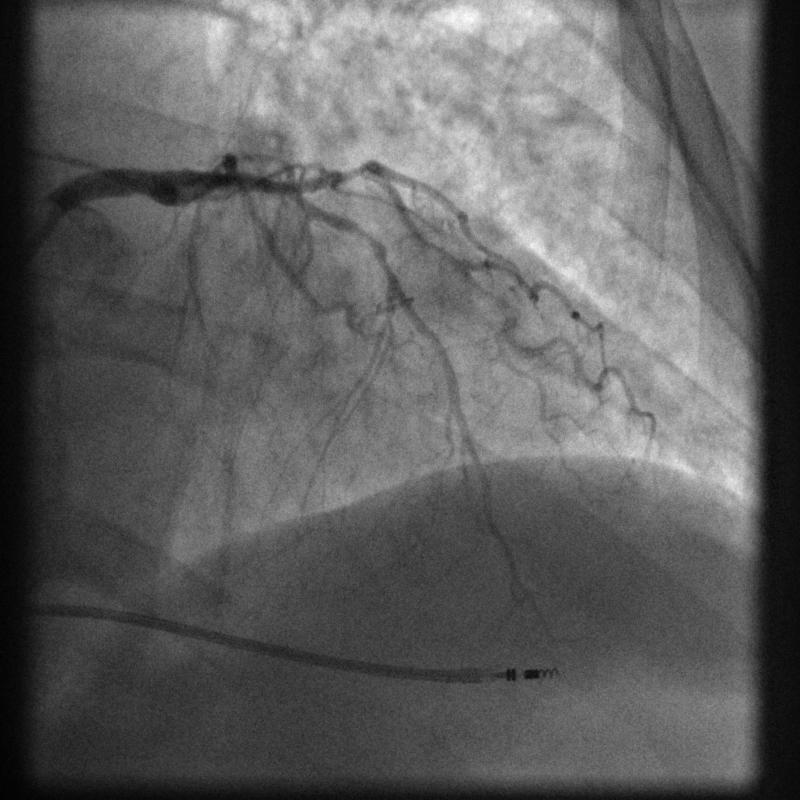Stenosis: (344, 218, 383, 262)
